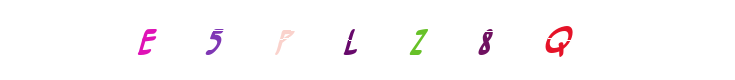5: (223, 0, 303, 80)
8: (393, 0, 473, 80)
E: (115, 0, 195, 80)
L: (327, 0, 407, 80)
P: (306, 0, 386, 80)
Q: (519, 0, 599, 80)
Z: (378, 0, 458, 80)
